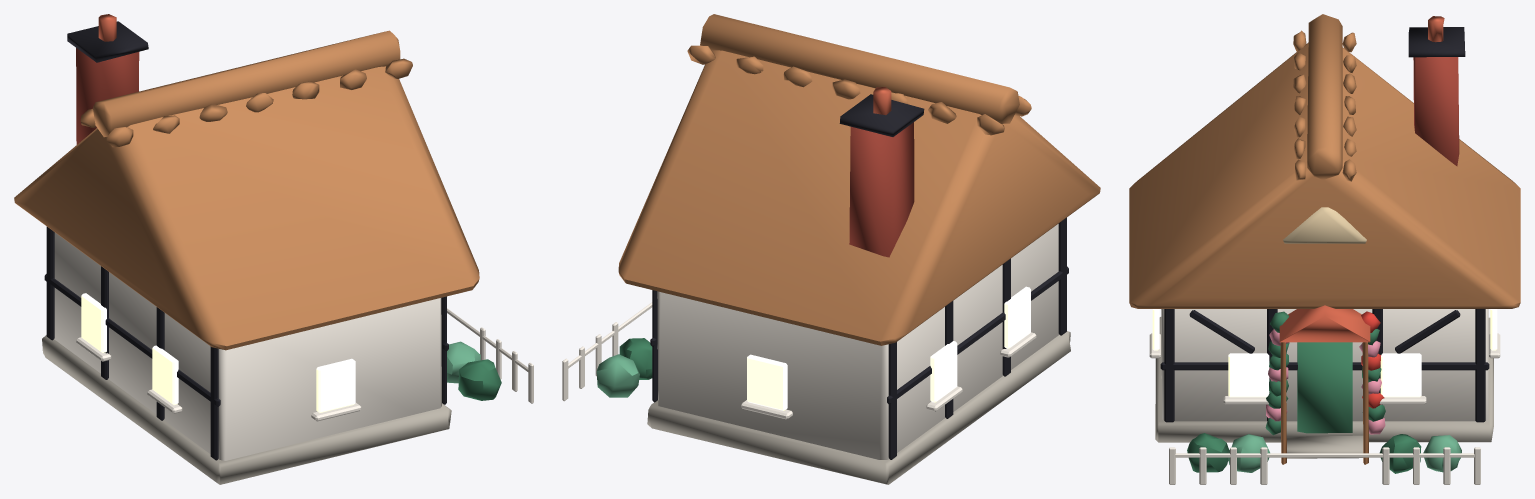
Rendered from cottage.glb.
3 views of the same model, side by side, from view 1: azimuth 30°, elevation 25°; view 2: azimuth 150°, elevation 25°; view 3: azimuth 270°, elevation 25° (orthographic). The views are drawn at different scales.
Visible parts, largest first — view 1: cottage; view 2: cottage; view 3: cottage.
Boxes of the visible parts, <box> form: cottage: <box>14,14,533,484</box>; cottage: <box>562,14,1100,484</box>; cottage: <box>1129,14,1520,484</box>.
Size of the model in its own units: 6.69 by 6.28 by 6.68.
1 material, 1 textured.
